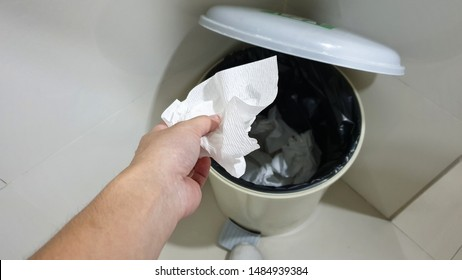Tissue: (161, 54, 281, 180)
